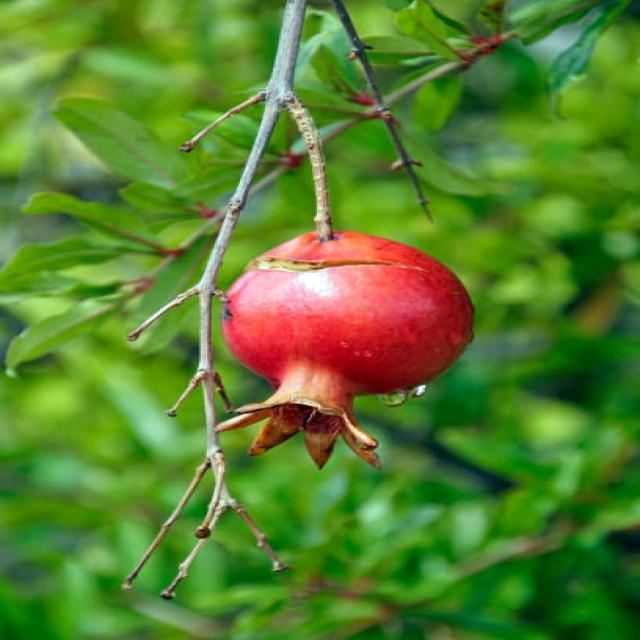Ripe: (204, 225, 481, 458)
